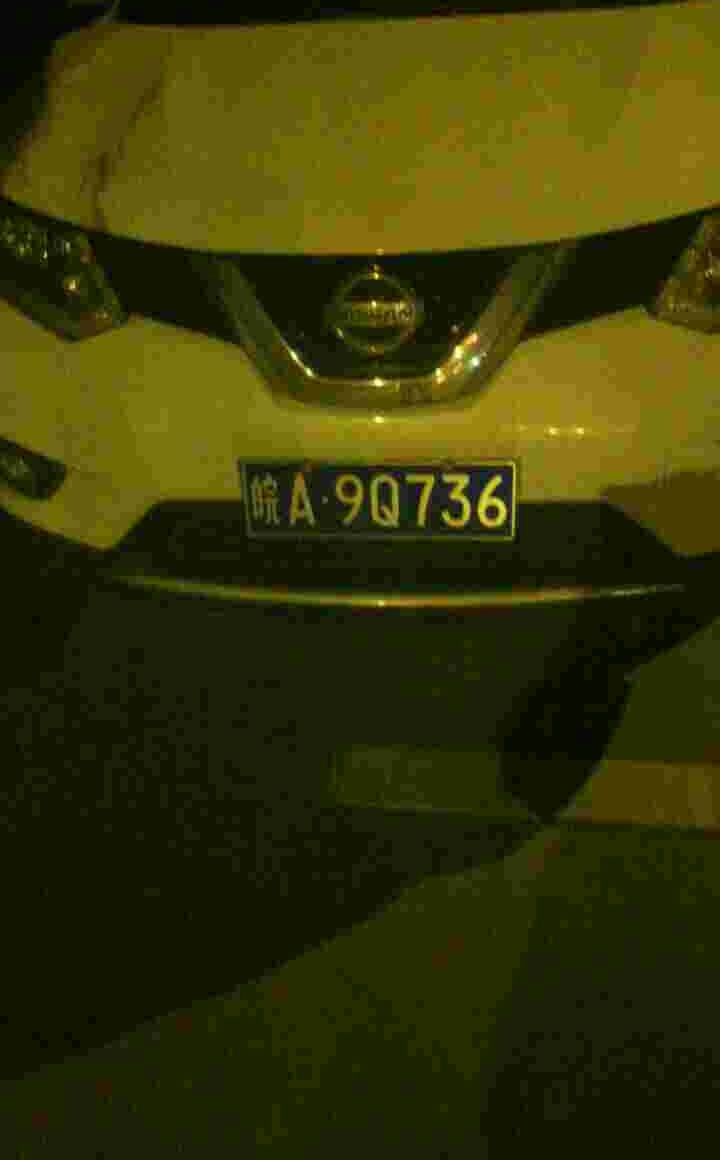license_plate: (250, 466, 528, 539)
